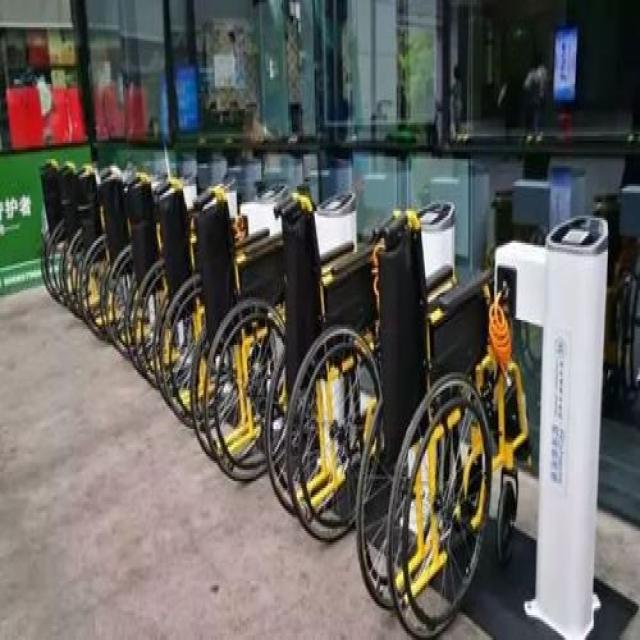wheelchairs: (354, 200, 532, 636), (262, 184, 400, 553), (188, 162, 300, 490)
